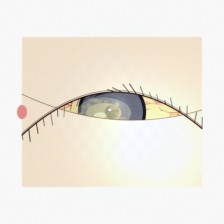corneal_ulcer: (75, 90, 132, 136)
